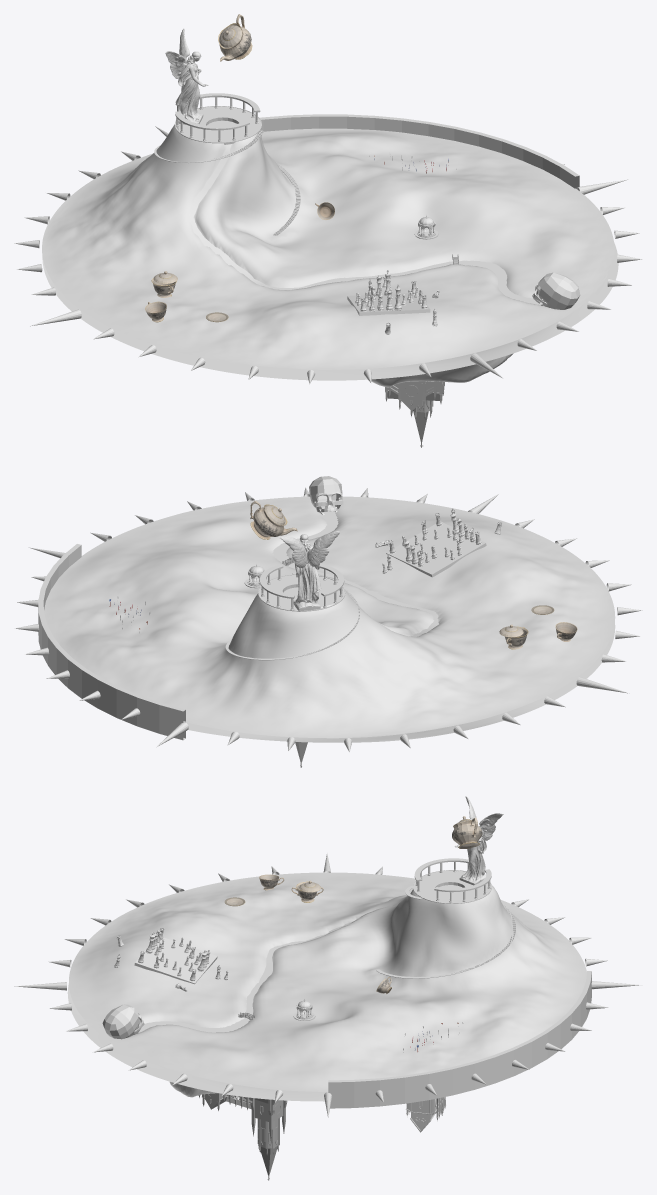
Rendered from TheWholeMap.fbx.
The picture shows the model from 3 angles, top to bottom: view 1: azimuth 30°, elevation 25°; view 2: azimuth 150°, elevation 25°; view 3: azimuth 270°, elevation 25°; orthographic projection. The views are drawn at different scales.
Parts seen in each view (by area): view 1: BZR_TerrainMesh, BZR_TerrainMesh.001, Frame_1/4, Spikes, CHS_platform, CHS_river, CHS_Angel, BZR_Castle, CHS_scull, CHS_flying_teapot, CHS_chessBOARD, CHS_stairs; view 2: BZR_TerrainMesh, Frame_1/4, Spikes, BZR_TerrainMesh.001, CHS_platform, CHS_Angel, CHS_chessBOARD, CHS_river, CHS_flying_teapot, CHS_scull, CHS_stairs; view 3: BZR_TerrainMesh, Frame_1/4, BZR_TerrainMesh.001, Spikes, CHS_platform, BZR_Castle, CHS_chessBOARD, CHS_river, CHS_Angel, CHS_scull, BZR_Church, CHS_flying_teapot (+1 smaller).
Boxes of the visible parts, <box> form: BZR_TerrainMesh: <box>42,125,614,369</box>; BZR_TerrainMesh.001: <box>42,242,618,387</box>; Frame_1/4: <box>259,114,579,190</box>; Spikes: <box>14,126,641,383</box>; CHS_platform: <box>174,93,261,144</box>; CHS_river: <box>190,144,542,304</box>; CHS_Angel: <box>165,28,208,124</box>; BZR_Castle: <box>385,381,444,447</box>; CHS_scull: <box>532,272,580,309</box>; CHS_flying_teapot: <box>218,14,252,61</box>; CHS_chessBOARD: <box>347,293,430,315</box>; CHS_stairs: <box>154,130,300,235</box>; BZR_TerrainMesh: <box>44,496,615,738</box>; Frame_1/4: <box>38,544,185,740</box>; Spikes: <box>14,487,642,751</box>; BZR_TerrainMesh.001: <box>186,623,615,742</box>; CHS_platform: <box>258,563,345,611</box>; CHS_Angel: <box>279,531,339,611</box>; CHS_chessBOARD: <box>386,522,486,577</box>; CHS_river: <box>272,506,438,636</box>; CHS_flying_teapot: <box>250,501,297,539</box>; CHS_scull: <box>309,476,343,514</box>; CHS_stairs: <box>225,573,359,660</box>; BZR_TerrainMesh: <box>69,872,586,1091</box>; Frame_1/4: <box>328,971,591,1108</box>; BZR_TerrainMesh.001: <box>67,983,326,1101</box>; Spikes: <box>14,853,642,1117</box>; CHS_platform: <box>413,858,491,903</box>; BZR_Castle: <box>198,1093,287,1180</box>; CHS_chessBOARD: <box>134,937,217,984</box>; CHS_river: <box>138,903,398,1032</box>; CHS_Angel: <box>455,796,503,885</box>; CHS_scull: <box>102,1004,144,1039</box>; BZR_Church: <box>406,1097,445,1132</box>; CHS_flying_teapot: <box>452,816,482,848</box>.
Size of the model in its own units: 372 by 217 by 372.
